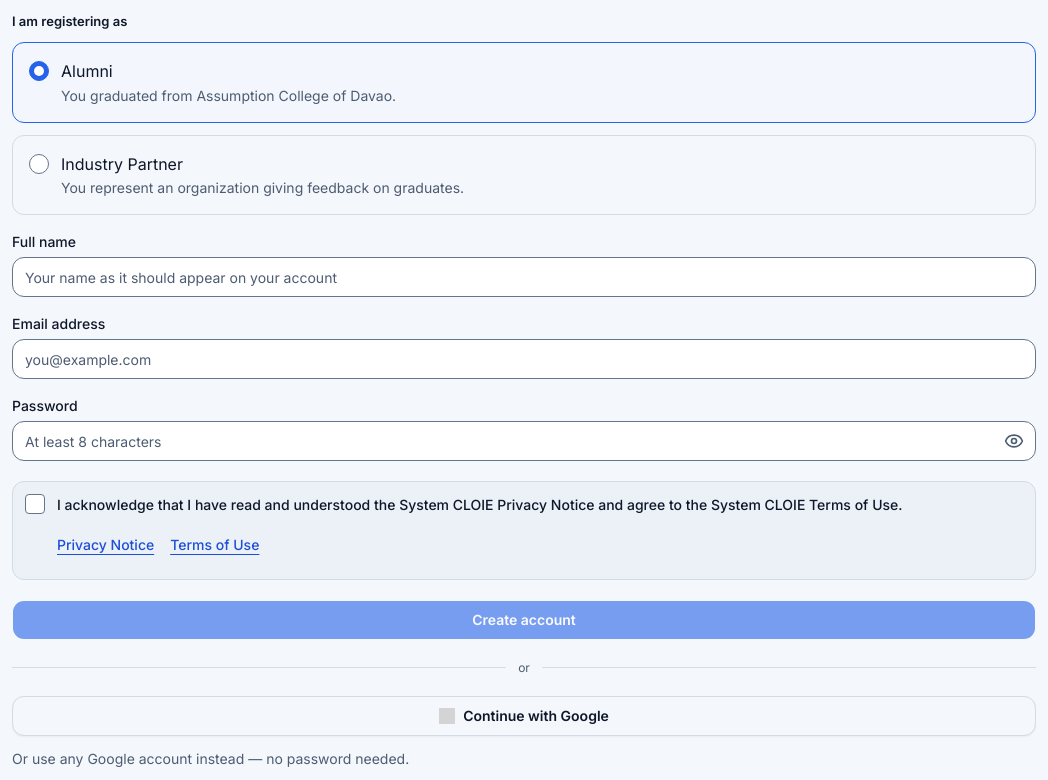
Scenario: ExternalRegisterForm › will not create the account until the legal acknowledgement is ticked
The image size is (1048, 780).
Type "Amara Reyes" into the field labelled "Full name" at (524, 277), box [12,257,1036,297]
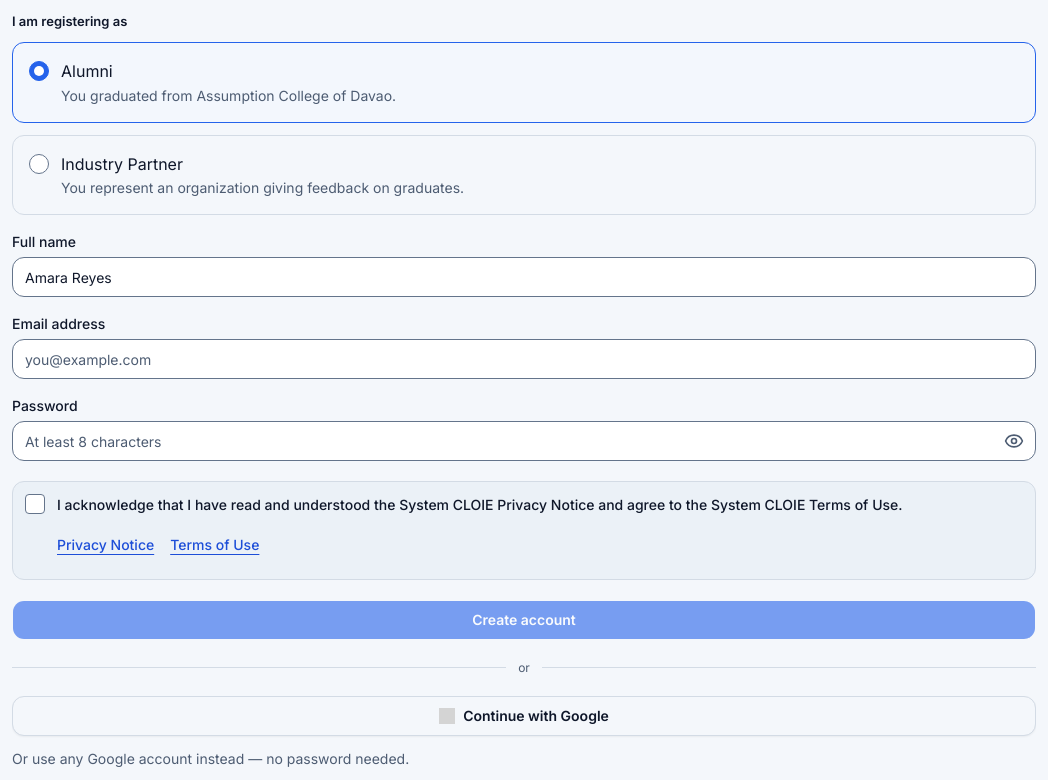
Type "amara@example.com" into the field labelled "Email address" at (524, 359), box [12,339,1036,379]
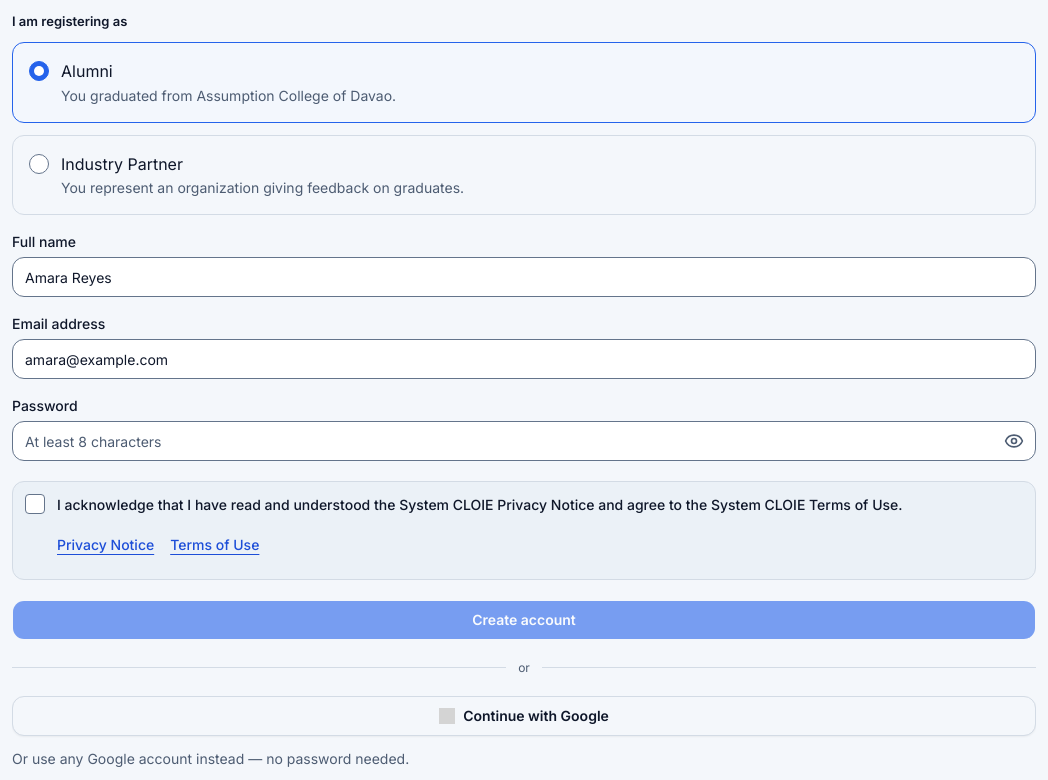
Type "correct-horse-9" into the password field labelled "Password" at (524, 441), box [12,421,1036,461]
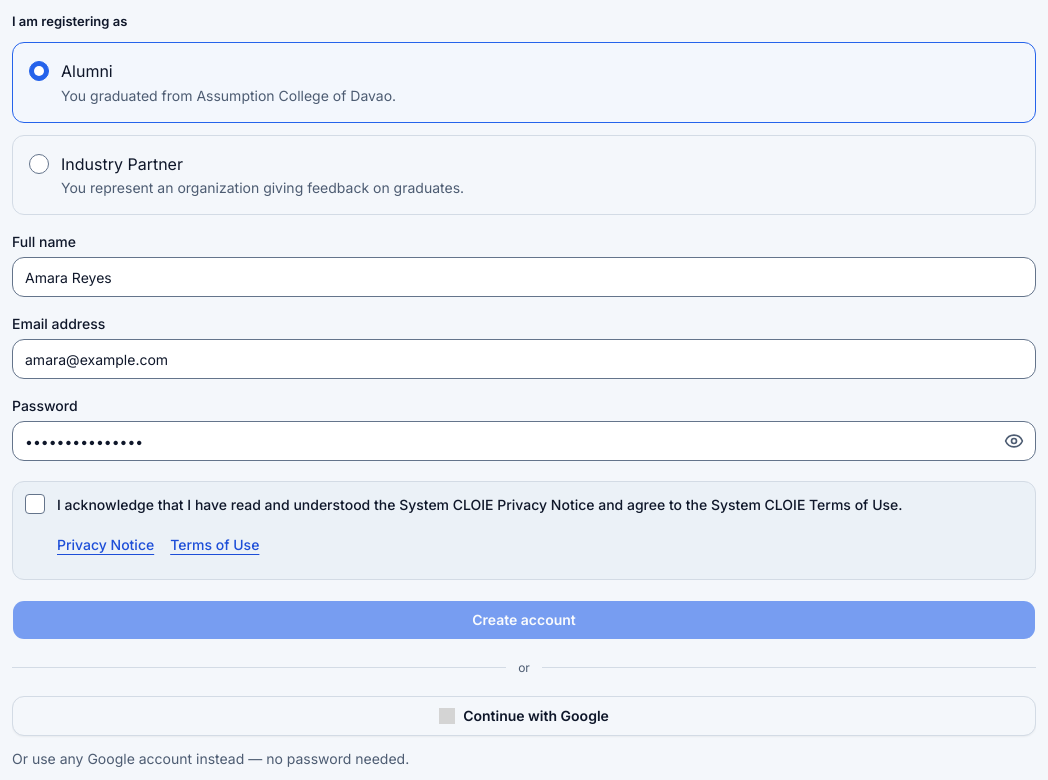
Expected: the button "Create account" is disabled, [12,600,1036,640]
Click the 1st checkbox at (35, 504), box [25,494,45,514]
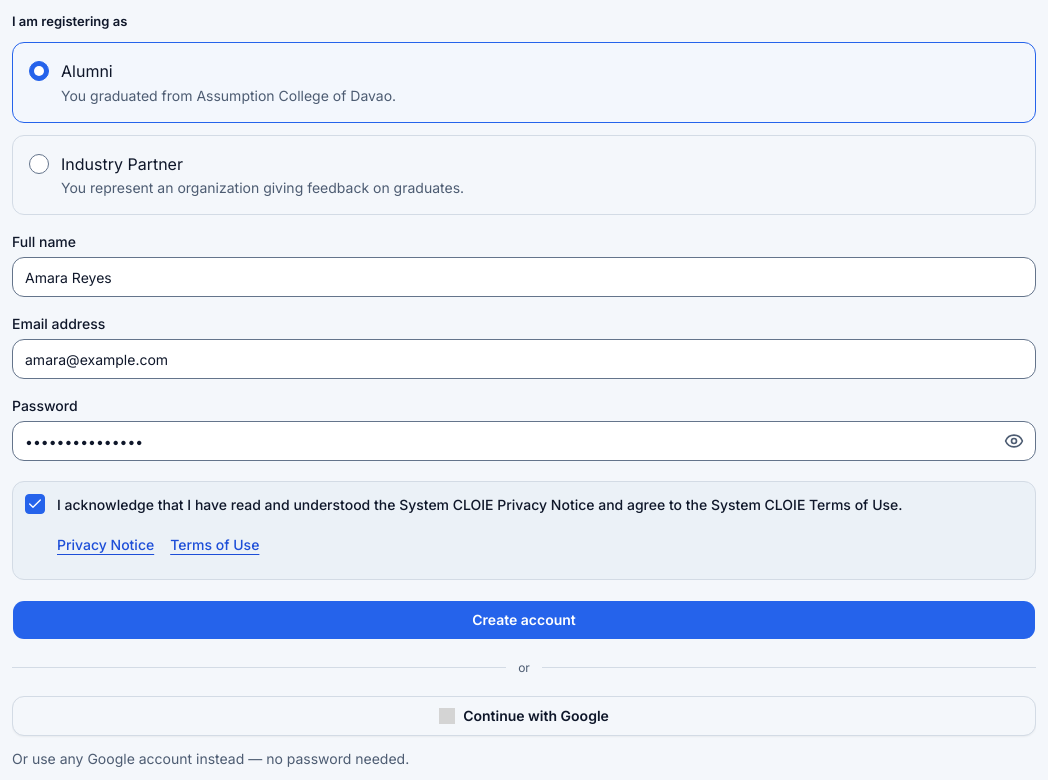
Expected: the button "Create account" is enabled, [12,600,1036,640]
